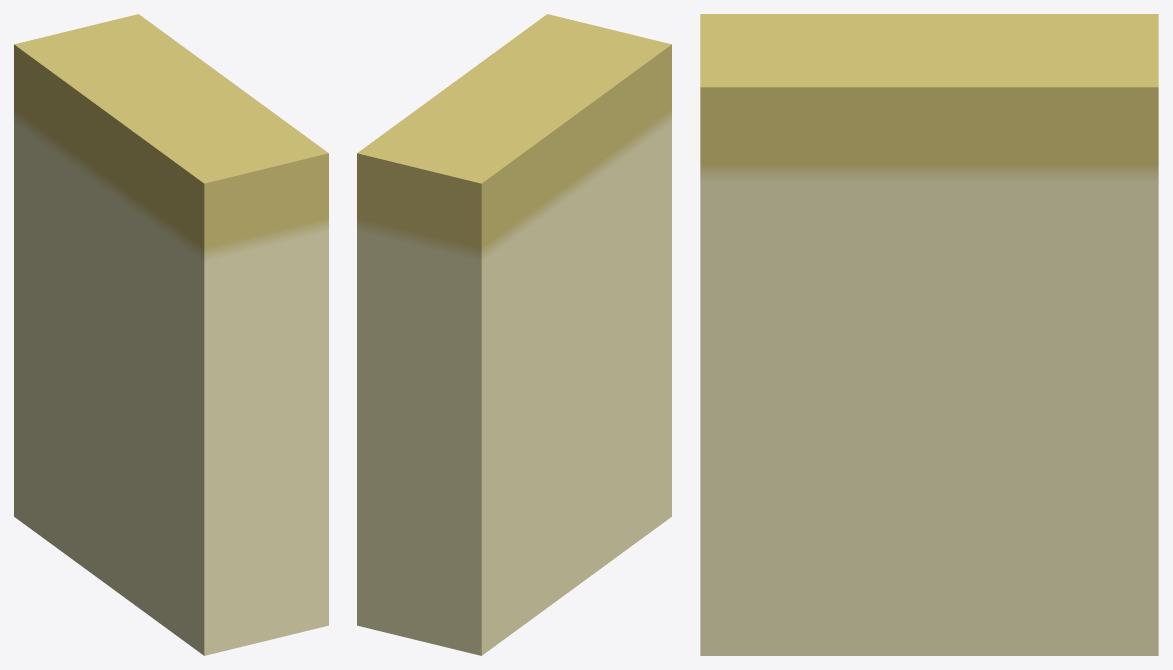
File: Itr_Obj_Book1_02.FBX
3 views of the same model, side by side, from view 1: azimuth 30°, elevation 25°; view 2: azimuth 150°, elevation 25°; view 3: azimuth 270°, elevation 25° (orthographic). The views are drawn at different scales.
Visible parts, largest first — view 1: Itr_Obj_Book1_02; view 2: Itr_Obj_Book1_02; view 3: Itr_Obj_Book1_02.
Part boxes in pixels (box(x1,y1,x2,y2)): Itr_Obj_Book1_02: box(14, 14, 328, 655); Itr_Obj_Book1_02: box(357, 14, 671, 655); Itr_Obj_Book1_02: box(700, 14, 1158, 655).
Size of the model in its own units: 2.14 by 7.76 by 5.67.
